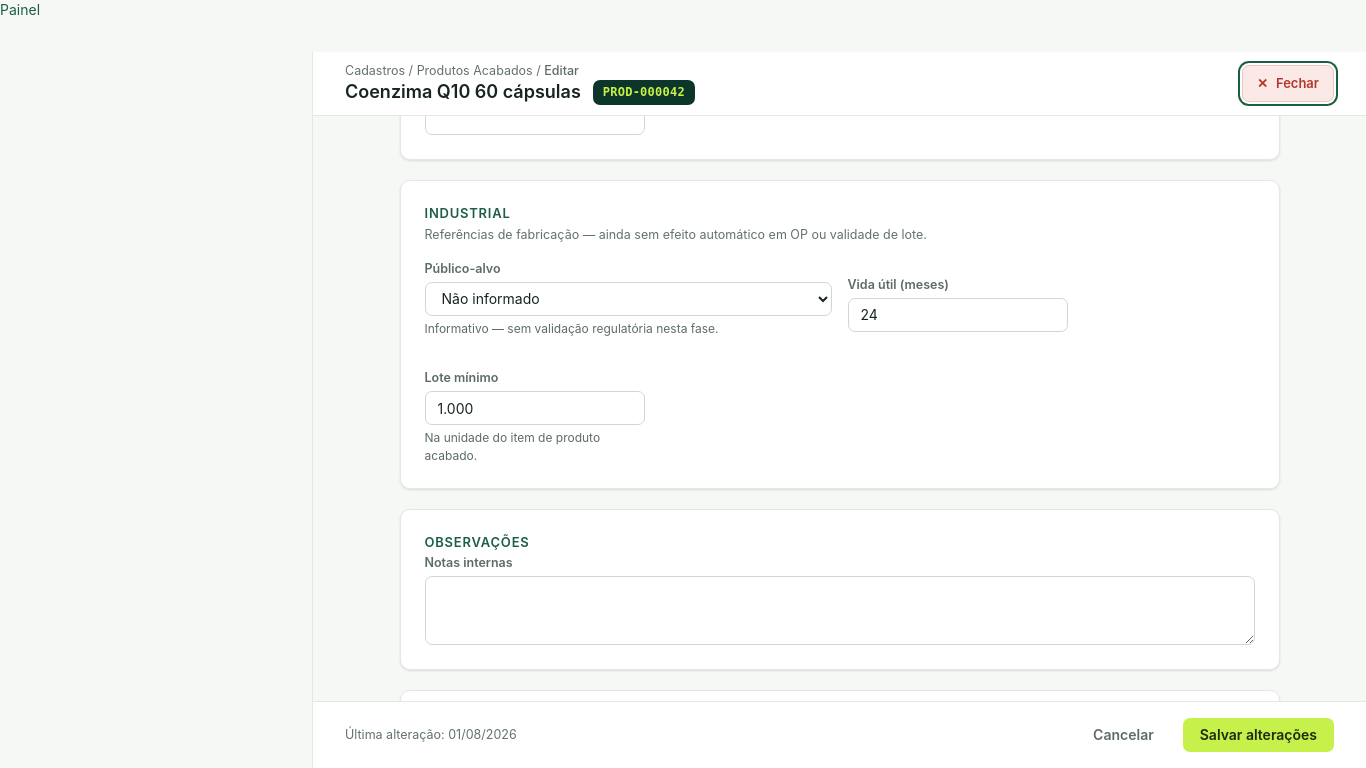
Test: Produto — modal de edição › campo editável alterado pergunta
(page scrolled)
Expected: the heading "Coenzima Q10 60 cápsulas" is shown, [345, 81, 581, 104]
Replace the text in the field labelled "Lote mínimo" with "2000": (534, 408) [424, 391, 644, 425]
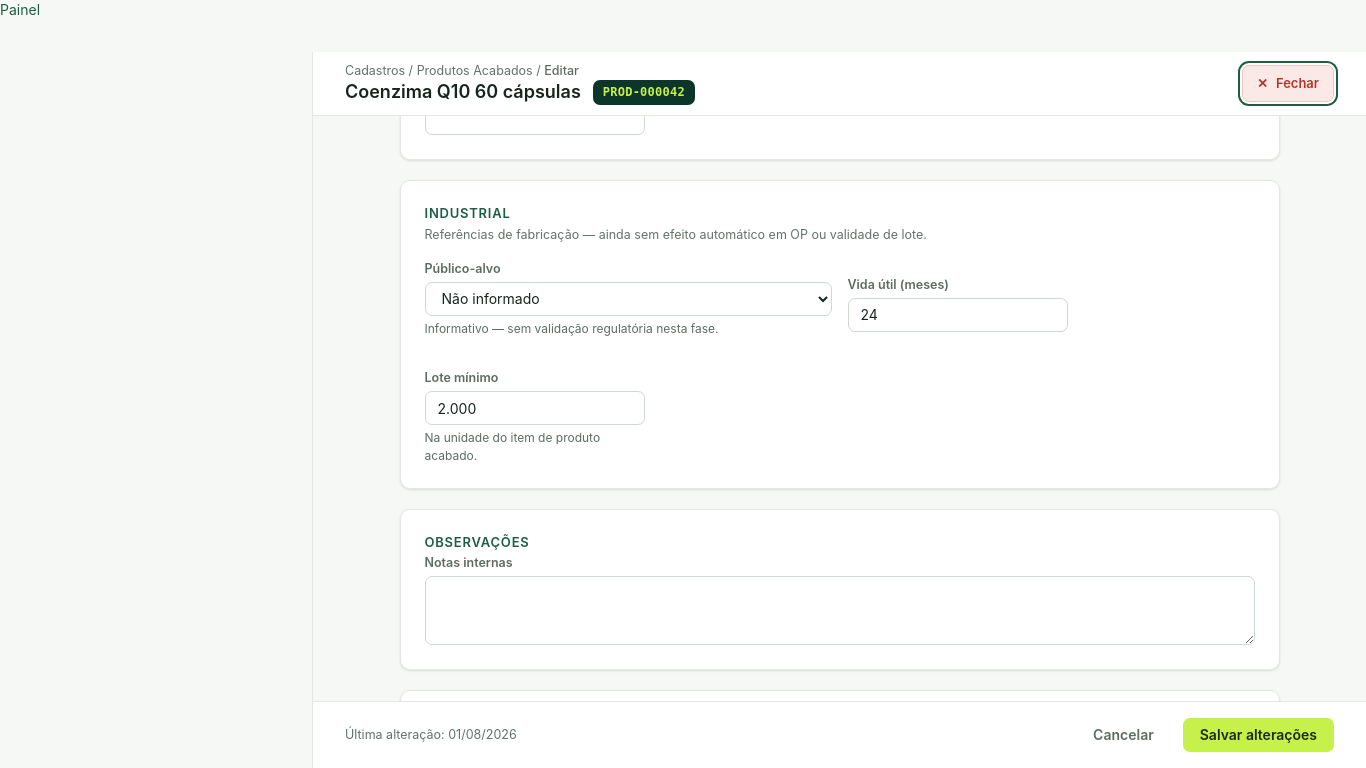
Click the link "Painel": (20, 10) [0, 1, 40, 18]
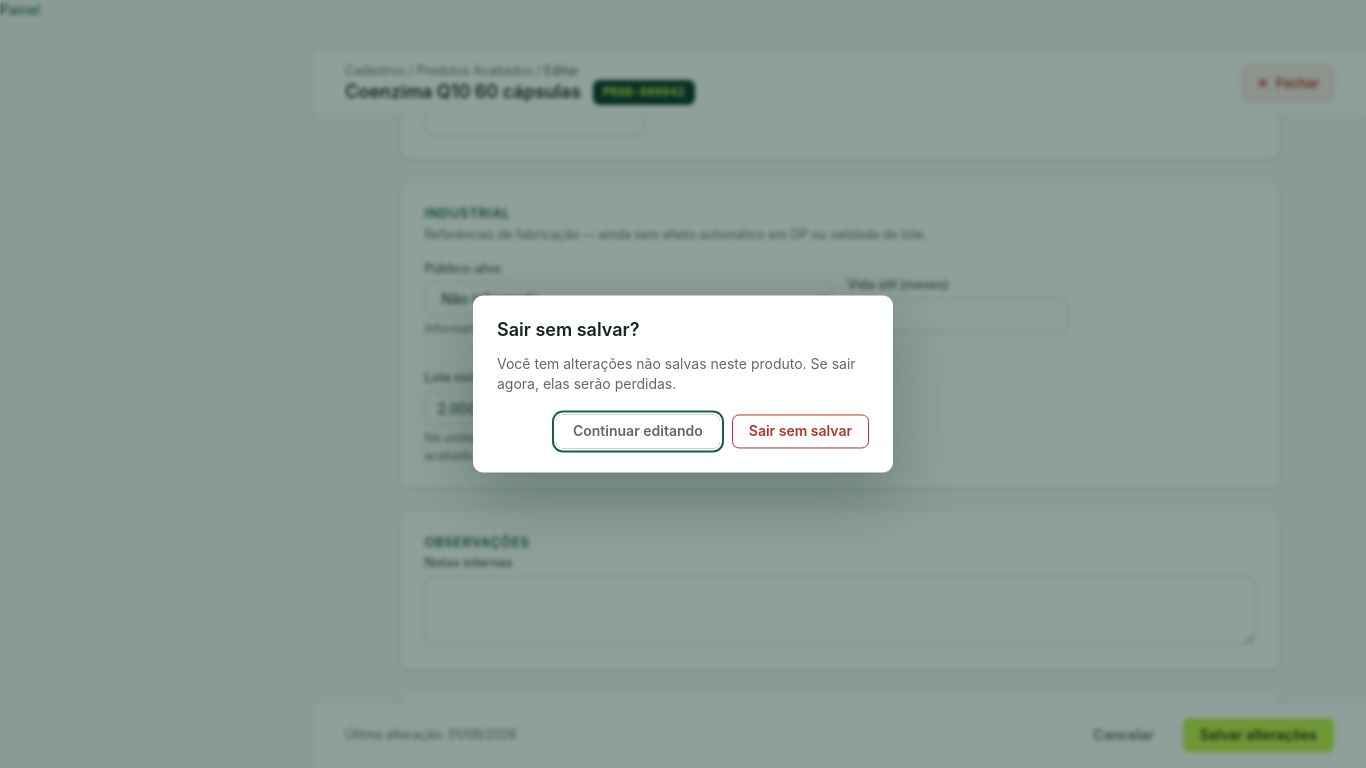
Expected: the heading "Sair sem salvar?" is shown, [497, 320, 640, 340]
